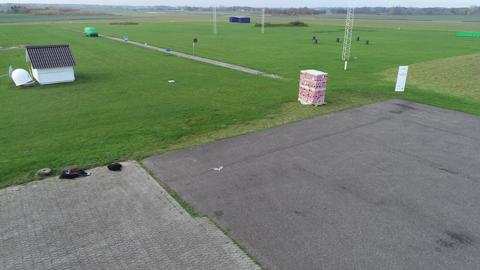RockwoolPallet: (298, 69, 329, 107)
